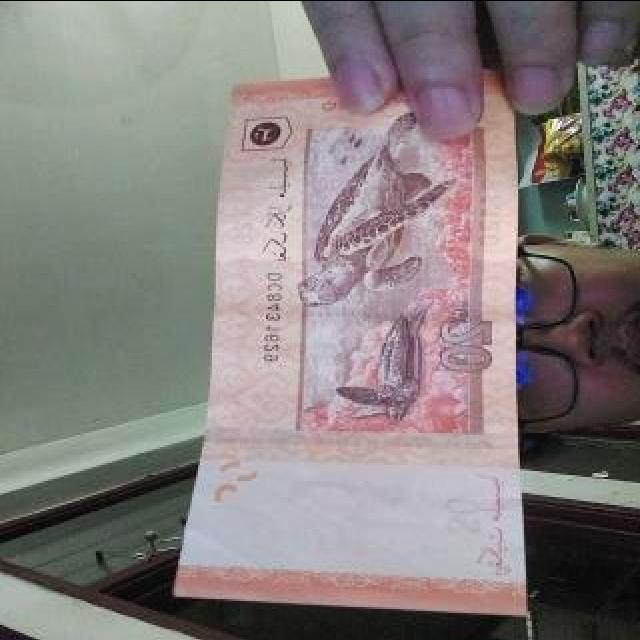20 Ringgit: (156, 59, 534, 620)
